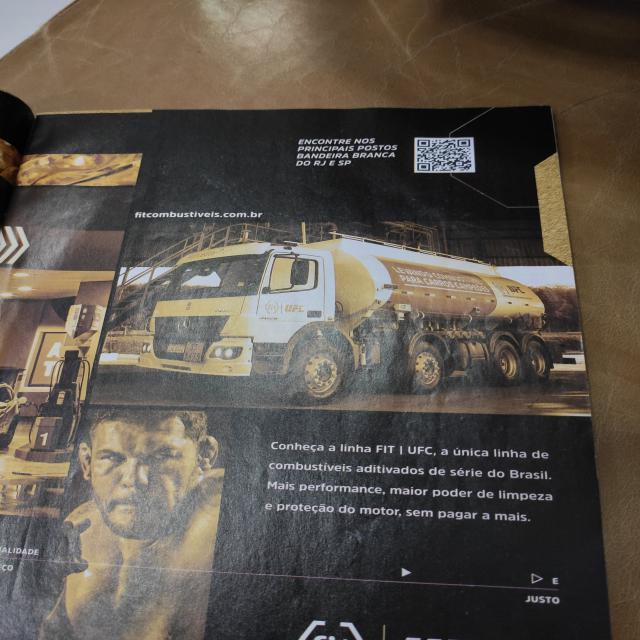qrcode: (418, 141, 472, 172)
